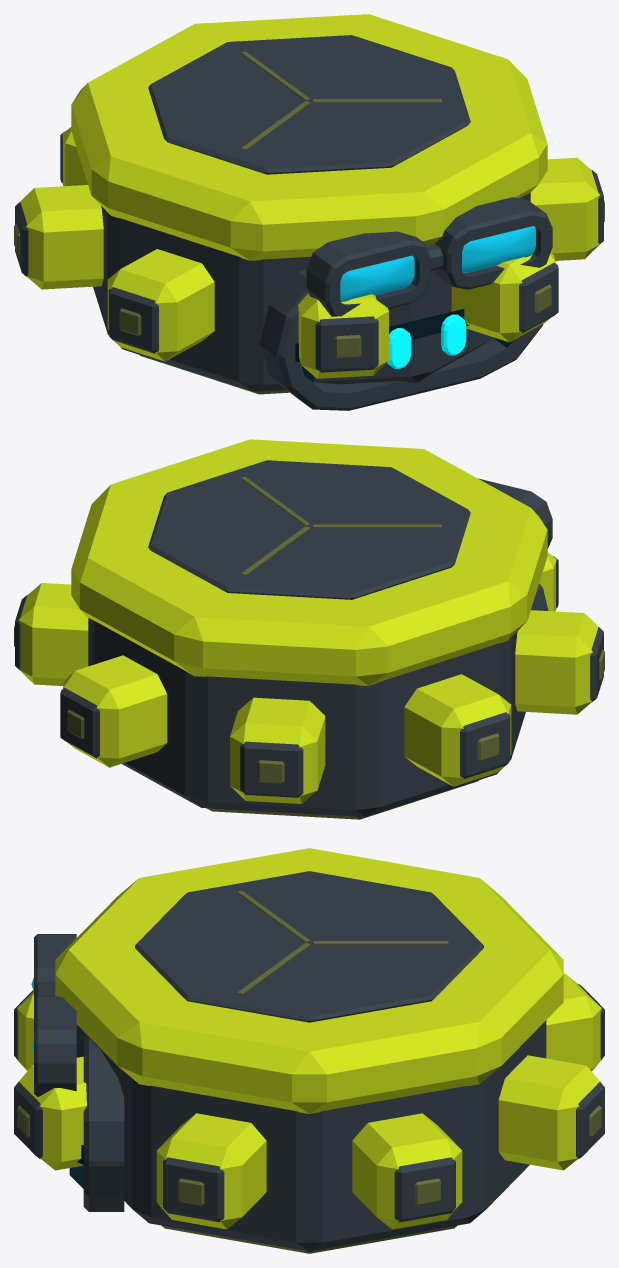
The model's file is linter_agent_v01.glb.
The picture shows the model from 3 angles, top to bottom: view 1: azimuth 30°, elevation 25°; view 2: azimuth 150°, elevation 25°; view 3: azimuth 270°, elevation 25°; orthographic projection. The views are drawn at different scales.
Parts seen in each view (by area): view 1: linter_agent_model; view 2: linter_agent_model; view 3: linter_agent_model.
Part boxes in pixels (left/top/right/bottom): linter_agent_model: left=14, top=14, right=604, bottom=410; linter_agent_model: left=14, top=439, right=604, bottom=819; linter_agent_model: left=14, top=848, right=604, bottom=1253.
Size of the model in its own units: 2.49 by 1.06 by 2.49.
2 materials, 2 textured.
